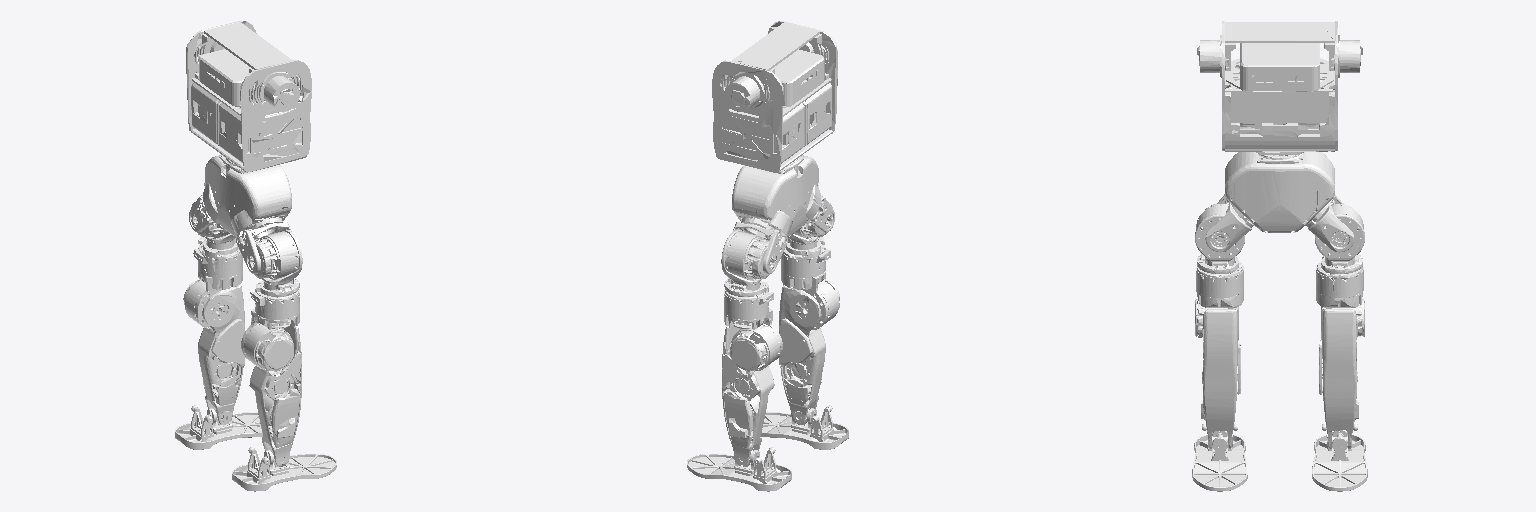
robot.urdf — biped_v3:
<?xml version="1.0" ?>
<!-- =================================================================================== -->
<!-- |    This document was autogenerated by xacro from [local-path]/workspace/kuavo-ros-control/src/humanoid-control/humanoid_interface_drake/models/biped_gen4.2/urdf/biped_v3.xacro | -->
<!-- |    EDITING THIS FILE BY HAND IS NOT RECOMMENDED                                 | -->
<!-- =================================================================================== -->
<robot name="biped_v3" xmlns:drake="https://drake.mit.edu">
  <link name="torso">
    <inertial>
      <origin xyz="-0.00125701 -0.00011621 0.07634255" rpy="0 0 0" />
      <mass value="11.53225692" />
      <inertia ixx="0.04387174" ixy="-1.165e-05" ixz="-2.045e-05" iyy="0.02873935" iyz="-0.00014024" izz="0.03498757" />
    </inertial>
    <visual>
      <origin xyz="0 0 0" rpy="0 0 0" />
      <geometry>
        <mesh filename="../../meshes/torso.STL" />
      </geometry>
      <material name="">
        <color rgba="1 1 1 1" />
      </material>
    </visual>
  </link>
  <link name="waist">
    <inertial>
      <origin xyz="0.00044512 0.00021941 -0.09828156" rpy="0 0 0" />
      <mass value="3.54871761" />
      <inertia ixx="0.01402915" ixy="5.86e-06" ixz="9.26e-06" iyy="0.00850232" iyz="7.03e-06" izz="0.0108444" />
    </inertial>
    <visual>
      <origin xyz="0 0 0" rpy="0 0 0" />
      <geometry>
        <mesh filename="../../meshes/waist.STL" />
      </geometry>
      <material name="">
        <color rgba="1 1 1 1" />
      </material>
    </visual>
  </link>
  <joint name="waist" type="fixed">
    <origin xyz="0 0 0" rpy="0 0 0" />
    <parent link="torso" />
    <child link="waist" />
    <axis xyz="0 0 1" />
    <limit lower="-2.0943951023932" upper="2.0943951023932" effort="50" velocity="8.37333333333333" />
  </joint>
  <link name="leg_l1_link">
    <inertial>
      <origin xyz="-0.00619745 -0.02691802 0.02588144" rpy="0 0 0" />
      <mass value="0.20744641" />
      <inertia ixx="0.00016479" ixy="-1.387e-05" ixz="1.379e-05" iyy="0.0003572" iyz="2.307e-05" izz="0.00036246" />
    </inertial>
    <visual>
      <origin xyz="0 0 0" rpy="0 0 0" />
      <geometry>
        <mesh filename="../../meshes/l_leg_pitch.STL" />
      </geometry>
      <material name="">
        <color rgba="1 1 1 1" />
      </material>
    </visual>
  </link>
  <joint name="leg_l1_joint" type="revolute">
    <origin xyz="0.0 0.10853553 -0.18853553" rpy="0 0 0" />
    <parent link="waist" />
    <child link="leg_l1_link" />
    <axis xyz="0 0.70711 -0.70711" />
    <limit lower="-2.0943951023932" upper="1.5707963267949" effort="180" velocity="23.55" />
  </joint>
  <transmission type="SimpleTransmission">
    <joint name="leg_l1_joint" />
    <actuator name="leg_l1_joint_motor" />
  </transmission>
  <link name="leg_l2_link">
    <inertial>
      <origin xyz="-0.00098722 0.00077479 -0.00862244" rpy="0 0 0" />
      <mass value="0.98810091" />
      <inertia ixx="0.00121545" ixy="-4.42e-06" ixz="4.324e-05" iyy="0.0012024" iyz="3.023e-05" izz="0.00087397" />
    </inertial>
    <visual>
      <origin xyz="0 0 0" rpy="0 0 0" />
      <geometry>
        <mesh filename="../../meshes/l_leg_roll.STL" />
      </geometry>
      <material name="">
        <color rgba="1 1 1 1" />
      </material>
    </visual>
  </link>
  <joint name="leg_l2_joint" type="revolute">
    <origin xyz="0.00100000000000005 0 0" rpy="0 0 0" />
    <parent link="leg_l1_link" />
    <child link="leg_l2_link" />
    <axis xyz="1 0 0" />
    <limit lower="-1.14668131856027" upper="0.872664625997165" effort="100" velocity="41.3433333333333" />
  </joint>
  <transmission type="SimpleTransmission">
    <joint name="leg_l2_joint" />
    <actuator name="leg_l2_joint_motor" />
  </transmission>
  <link name="leg_l3_link">
    <inertial>
      <origin xyz="-0.01036605 0.00124714 -0.13772711" rpy="0 0 0" />
      <mass value="1.70623945" />
      <inertia ixx="0.0045722" ixy="4.264e-05" ixz="-0.00075108" iyy="0.00491267" iyz="0.00016727" izz="0.00171576" />
    </inertial>
    <visual>
      <origin xyz="0 0 0" rpy="0 0 0" />
      <geometry>
        <mesh filename="../../meshes/l_leg_yaw.STL" />
      </geometry>
      <material name="">
        <color rgba="1 1 1 1" />
      </material>
    </visual>
  </link>
  <joint name="leg_l3_joint" type="revolute">
    <origin xyz="0 0 0" rpy="0 0 0" />
    <parent link="leg_l2_link" />
    <child link="leg_l3_link" />
    <axis xyz="0 0 1" />
    <limit lower="-0.818384886260141" upper="1.5707963267949" effort="100" velocity="41.3433333333333" />
  </joint>
  <transmission type="SimpleTransmission">
    <joint name="leg_l3_joint" />
    <actuator name="leg_l3_joint_motor" />
  </transmission>
  <link name="leg_l4_link">
    <inertial>
      <origin xyz="0.02455489 -0.00415947 -0.1003268" rpy="0 0 0" />
      <mass value="1.33885586" />
      <inertia ixx="0.00557083" ixy="-6.627e-05" ixz="-0.00019424" iyy="0.0057856" iyz="0.00036072" izz="0.00093401" />
    </inertial>
    <visual>
      <origin xyz="0 0 0" rpy="0 0 0" />
      <geometry>
        <mesh filename="../../meshes/l_knee.STL" />
      </geometry>
      <material name="">
        <color rgba="1 1 1 1" />
      </material>
    </visual>
  </link>
  <joint name="leg_l4_joint" type="revolute">
    <origin xyz="-0.0219999999999992 0 -0.183499999999999" rpy="0 0 0" />
    <parent link="leg_l3_link" />
    <child link="leg_l4_link" />
    <axis xyz="0 1 0" />
    <limit lower="0.0" upper="2.61799387799149" effort="180" velocity="23.55" />
  </joint>
  <transmission type="SimpleTransmission">
    <joint name="leg_l4_joint" />
    <actuator name="leg_l4_joint_motor" />
  </transmission>
  <link name="leg_l5_link">
    <inertial>
      <origin xyz="0.0 0.0 0.0" rpy="0 0 0" />
      <mass value="0.07193524" />
      <inertia ixx="6.92e-06" ixy="0.0" ixz="0.0" iyy="6.92e-06" iyz="0.0" izz="1.218e-05" />
    </inertial>
    <visual>
      <origin xyz="0 0 0" rpy="0 0 0" />
      <geometry>
        <mesh filename="../../meshes/l_foot_pitch.STL" />
      </geometry>
      <material name="">
        <color rgba="1 1 1 1" />
      </material>
    </visual>
  </link>
  <joint name="leg_l5_joint" type="revolute">
    <origin xyz="0.0210000000000002 0 -0.234999999999996" rpy="0 0 0" />
    <parent link="leg_l4_link" />
    <child link="leg_l5_link" />
    <axis xyz="0 1 0" />
    <limit lower="-0.872664625997165" upper="0.523598775598299" effort="36" velocity="23.0266666666667" />
  </joint>
  <transmission type="SimpleTransmission">
    <joint name="leg_l5_joint" />
    <actuator name="leg_l5_joint_motor" />
  </transmission>
  <link name="leg_l6_link">
    <inertial>
      <origin xyz="-0.00773988 0.0 -0.02559918" rpy="0 0 0" />
      <mass value="0.37196339" />
      <inertia ixx="0.00016784" ixy="0.0" ixz="8.528e-05" iyy="0.00066357" iyz="0.0" izz="0.00067873" />
    </inertial>
    <visual>
      <origin xyz="0 0 0" rpy="0 0 0" />
      <geometry>
        <mesh filename="../../meshes/l_foot_roll_big.STL" />
      </geometry>
      <material name="">
        <color rgba="1 1 1 1" />
      </material>
    </visual>
  </link>
  <joint name="leg_l6_joint" type="revolute">
    <origin xyz="0 0 0" rpy="0 0 0" />
    <parent link="leg_l5_link" />
    <child link="leg_l6_link" />
    <axis xyz="1 0 0" />
    <limit lower="-0.261799387799149" upper="0.261799387799149" effort="36" velocity="23.0266666666667" />
  </joint>
  <transmission type="SimpleTransmission">
    <joint name="leg_l6_joint" />
    <actuator name="leg_l6_joint_motor" />
  </transmission>
  <!-- sssssssss -->
  <frame link="leg_l6_link" name="l_foot_sole" xyz="0.0185 0.0 -0.0435"/>
  <frame link="leg_l6_link" name="l_foot_toe" xyz="0.126 0.0 -0.0435"/>
  <frame link="leg_l6_link" name="l_foot_heel" xyz="-0.089 0.0 -0.0435"/>
  <link name="leg_r1_link">
    <inertial>
      <origin xyz="-0.00619607 0.02691963 0.02587995" rpy="0 0 0" />
      <mass value="0.20744688" />
      <inertia ixx="0.00016477" ixy="1.385e-05" ixz="1.38e-05" iyy="0.00035721" iyz="-2.306e-05" izz="0.00036244" />
    </inertial>
    <visual>
      <origin xyz="0 0 0" rpy="0 0 0" />
      <geometry>
        <mesh filename="../../meshes/r_leg_pitch.STL" />
      </geometry>
      <material name="">
        <color rgba="1 1 1 1" />
      </material>
    </visual>
  </link>
  <joint name="leg_r1_joint" type="revolute">
    <origin xyz="0.0 -0.10853553 -0.18853553" rpy="0 0 0" />
    <parent link="waist" />
    <child link="leg_r1_link" />
    <axis xyz="0 -0.70711 -0.70711" />
    <limit lower="-1.5707963267949" upper="2.0943951023932" effort="180" velocity="23.55" />
  </joint>
  <transmission type="SimpleTransmission">
    <joint name="leg_r1_joint" />
    <actuator name="leg_r1_joint_motor" />
  </transmission>
  <link name="leg_r2_link">
    <inertial>
      <origin xyz="-0.00091758 -0.00072548 -0.00869132" rpy="0 0 0" />
      <mass value="0.98808814" />
      <inertia ixx="0.00121433" ixy="5.41e-06" ixz="4.213e-05" iyy="0.0011961" iyz="-2.86e-05" izz="0.0008713" />
    </inertial>
    <visual>
      <origin xyz="0 0 0" rpy="0 0 0" />
      <geometry>
        <mesh filename="../../meshes/r_leg_roll.STL" />
      </geometry>
      <material name="">
        <color rgba="1 1 1 1" />
      </material>
    </visual>
  </link>
  <joint name="leg_r2_joint" type="revolute">
    <origin xyz="0.001 0 0" rpy="0 0 0" />
    <parent link="leg_r1_link" />
    <child link="leg_r2_link" />
    <axis xyz="1 0 0" />
    <limit lower="-0.872664625997165" upper="1.14668131856027" effort="100" velocity="41.3433333333333" />
  </joint>
  <transmission type="SimpleTransmission">
    <joint name="leg_r2_joint" />
    <actuator name="leg_r2_joint_motor" />
  </transmission>
  <link name="leg_r3_link">
    <inertial>
      <origin xyz="-0.01040262 -0.00122173 -0.13769028" rpy="0 0 0" />
      <mass value="1.70622839" />
      <inertia ixx="0.00457655" ixy="-4.152e-05" ixz="-0.00075285" iyy="0.00491455" iyz="-0.00016988" izz="0.001716" />
    </inertial>
    <visual>
      <origin xyz="0 0 0" rpy="0 0 0" />
      <geometry>
        <mesh filename="../../meshes/r_leg_yaw.STL" />
      </geometry>
      <material name="">
        <color rgba="1 1 1 1" />
      </material>
    </visual>
  </link>
  <joint name="leg_r3_joint" type="revolute">
    <origin xyz="0 0 0" rpy="0 0 0" />
    <parent link="leg_r2_link" />
    <child link="leg_r3_link" />
    <axis xyz="0 0 1" />
    <limit lower="-1.5707963267949" upper="0.818384886260141" effort="100" velocity="41.3433333333333" />
  </joint>
  <transmission type="SimpleTransmission">
    <joint name="leg_r3_joint" />
    <actuator name="leg_r3_joint_motor" />
  </transmission>
  <link name="leg_r4_link">
    <inertial>
      <origin xyz="0.02457018 0.00415925 -0.10028559" rpy="0 0 0" />
      <mass value="1.33884142" />
      <inertia ixx="0.00556089" ixy="6.661e-05" ixz="-0.00019274" iyy="0.00577497" iyz="-0.00036076" izz="0.00093328" />
    </inertial>
    <visual>
      <origin xyz="0 0 0" rpy="0 0 0" />
      <geometry>
        <mesh filename="../../meshes/r_knee.STL" />
      </geometry>
      <material name="">
        <color rgba="1 1 1 1" />
      </material>
    </visual>
  </link>
  <joint name="leg_r4_joint" type="revolute">
    <origin xyz="-0.022 0 -0.1835" rpy="0 0 0" />
    <parent link="leg_r3_link" />
    <child link="leg_r4_link" />
    <axis xyz="0 1 0" />
    <limit lower="0.0" upper="2.61799387799149" effort="180" velocity="23.55" />
  </joint>
  <transmission type="SimpleTransmission">
    <joint name="leg_r4_joint" />
    <actuator name="leg_r4_joint_motor" />
  </transmission>
  <link name="leg_r5_link">
    <inertial>
      <origin xyz="0.0 0.0 0.0" rpy="0 0 0" />
      <mass value="0.07193524" />
      <inertia ixx="6.92e-06" ixy="0.0" ixz="0.0" iyy="6.92e-06" iyz="0.0" izz="1.218e-05" />
    </inertial>
    <visual>
      <origin xyz="0 0 0" rpy="0 0 0" />
      <geometry>
        <mesh filename="../../meshes/r_foot_pitch.STL" />
      </geometry>
      <material name="">
        <color rgba="1 1 1 1" />
      </material>
    </visual>
  </link>
  <joint name="leg_r5_joint" type="revolute">
    <origin xyz="0.021 0 -0.235" rpy="0 0 0" />
    <parent link="leg_r4_link" />
    <child link="leg_r5_link" />
    <axis xyz="0 1 0" />
    <limit lower="-0.872664625997165" upper="0.523598775598299" effort="36" velocity="23.0266666666667" />
  </joint>
  <transmission type="SimpleTransmission">
    <joint name="leg_r5_joint" />
    <actuator name="leg_r5_joint_motor" />
  </transmission>
  <link name="leg_r6_link">
    <inertial>
      <origin xyz="-0.00773988 0.0 -0.02559918" rpy="0 0 0" />
      <mass value="0.37196339" />
      <inertia ixx="0.00016784" ixy="0.0" ixz="8.528e-05" iyy="0.00066357" iyz="0.0" izz="0.00067873" />
    </inertial>
    <visual>
      <origin xyz="0 0 0" rpy="0 0 0" />
      <geometry>
        <mesh filename="../../meshes/r_foot_roll_big.STL" />
      </geometry>
      <material name="">
        <color rgba="1 1 1 1" />
      </material>
    </visual>
  </link>
  <joint name="leg_r6_joint" type="revolute">
    <origin xyz="0 0 0" rpy="0 0 0" />
    <parent link="leg_r5_link" />
    <child link="leg_r6_link" />
    <axis xyz="1 0 0" />
    <limit lower="-0.261799387799149" upper="0.261799387799149" effort="36" velocity="23.0266666666667" />
  </joint>
  <transmission type="SimpleTransmission">
    <joint name="leg_r6_joint" />
    <actuator name="leg_r6_joint_motor" />
  </transmission>
  <!-- sssssssss -->
  <frame link="leg_r6_link" name="r_foot_sole" xyz="0.0185 0.0 -0.0435"/>
  <frame link="leg_r6_link" name="r_foot_toe" xyz="0.126 0.0 -0.0435"/>
  <frame link="leg_r6_link" name="r_foot_heel" xyz="-0.089 0.0 -0.0435"/>
</robot>

--- What the picture shows (computed from the rendered views, not written in the file) ---
3 views of the same robot in one strip: view 1: azimuth 30°, elevation 25°; view 2: azimuth 150°, elevation 25°; view 3: azimuth 270°, elevation 25° (orthographic).
Robot: biped_v3 — 14 links, 13 joints (12 revolute, 1 fixed); root link torso; default pose: every joint at zero.
Visible links, largest first — view 1: torso, waist, leg_l4_link, leg_r4_link, leg_r3_link, leg_l3_link, leg_r6_link, leg_r2_link, leg_l6_link, leg_r1_link, leg_l2_link; view 2: torso, waist, leg_r4_link, leg_l4_link, leg_l3_link, leg_r3_link, leg_l6_link, leg_l2_link, leg_r6_link, leg_l1_link, leg_r2_link; view 3: torso, waist, leg_l4_link, leg_r4_link, leg_l6_link, leg_r6_link, leg_r3_link, leg_l3_link, leg_l2_link, leg_r2_link, leg_l1_link, leg_r1_link.
Link boxes in pixels (left/top/right/bottom): torso: left=186, top=20, right=311, bottom=171; waist: left=203, top=155, right=291, bottom=238; leg_l4_link: left=198, top=284, right=244, bottom=424; leg_r4_link: left=249, top=326, right=301, bottom=466; leg_r3_link: left=241, top=281, right=299, bottom=371; leg_l3_link: left=183, top=240, right=242, bottom=329; leg_r6_link: left=232, top=447, right=336, bottom=491; leg_r2_link: left=248, top=229, right=302, bottom=296; leg_l6_link: left=175, top=405, right=262, bottom=449; leg_r1_link: left=236, top=222, right=291, bottom=273; leg_l2_link: left=191, top=202, right=235, bottom=249; torso: left=712, top=21, right=837, bottom=172; waist: left=732, top=155, right=820, bottom=238; leg_r4_link: left=779, top=285, right=825, bottom=424; leg_l4_link: left=722, top=326, right=774, bottom=466; leg_l3_link: left=724, top=281, right=782, bottom=371; leg_r3_link: left=781, top=240, right=839, bottom=329; leg_l6_link: left=687, top=447, right=791, bottom=491; leg_l2_link: left=721, top=230, right=776, bottom=296; leg_r6_link: left=761, top=405, right=848, bottom=449; leg_l1_link: left=733, top=222, right=787, bottom=273; leg_r2_link: left=788, top=202, right=832, bottom=249; torso: left=1197, top=21, right=1362, bottom=155; waist: left=1225, top=152, right=1334, bottom=232; leg_l4_link: left=1319, top=306, right=1358, bottom=448; leg_r4_link: left=1201, top=307, right=1240, bottom=448; leg_l6_link: left=1312, top=424, right=1367, bottom=491; leg_r6_link: left=1192, top=424, right=1247, bottom=491; leg_r3_link: left=1195, top=256, right=1243, bottom=337; leg_l3_link: left=1316, top=256, right=1364, bottom=337; leg_l2_link: left=1315, top=203, right=1364, bottom=273; leg_r2_link: left=1195, top=204, right=1244, bottom=273; leg_l1_link: left=1306, top=194, right=1354, bottom=252; leg_r1_link: left=1205, top=194, right=1253, bottom=252.
Size in the robot's own frame: 0.215 by 0.3171 by 0.8605 metres.
Meshes: 14 distinct files referenced, 14 mesh visuals loaded (14 binary STL).